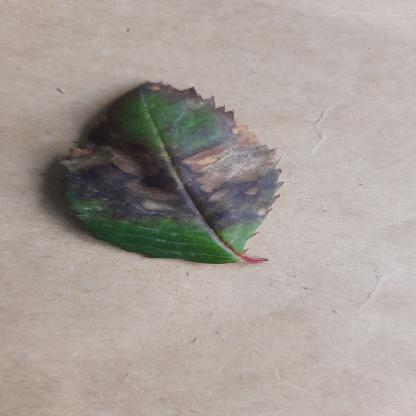powdery-mildew: (51, 81, 280, 269)
